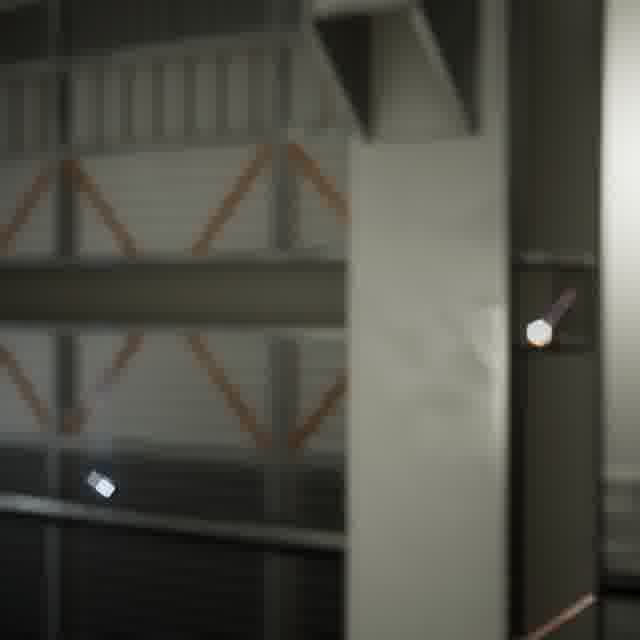bolt: (505, 586, 602, 640), (522, 285, 581, 351)
nut: (82, 466, 124, 503)
